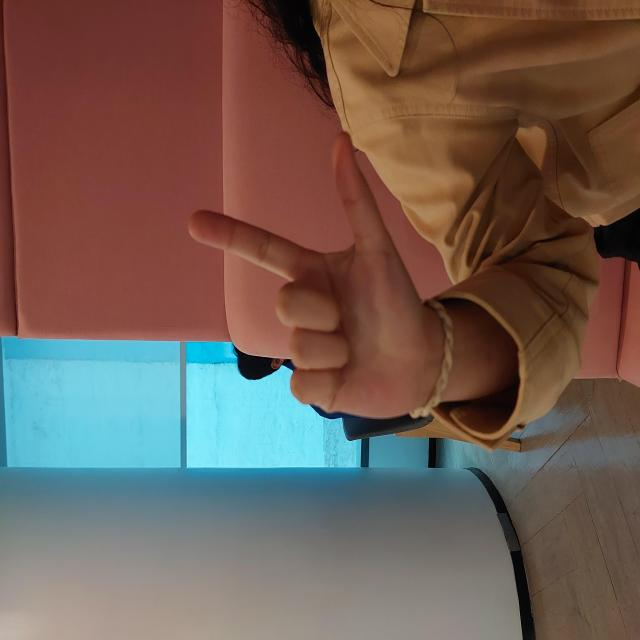L: (216, 183, 515, 450)
